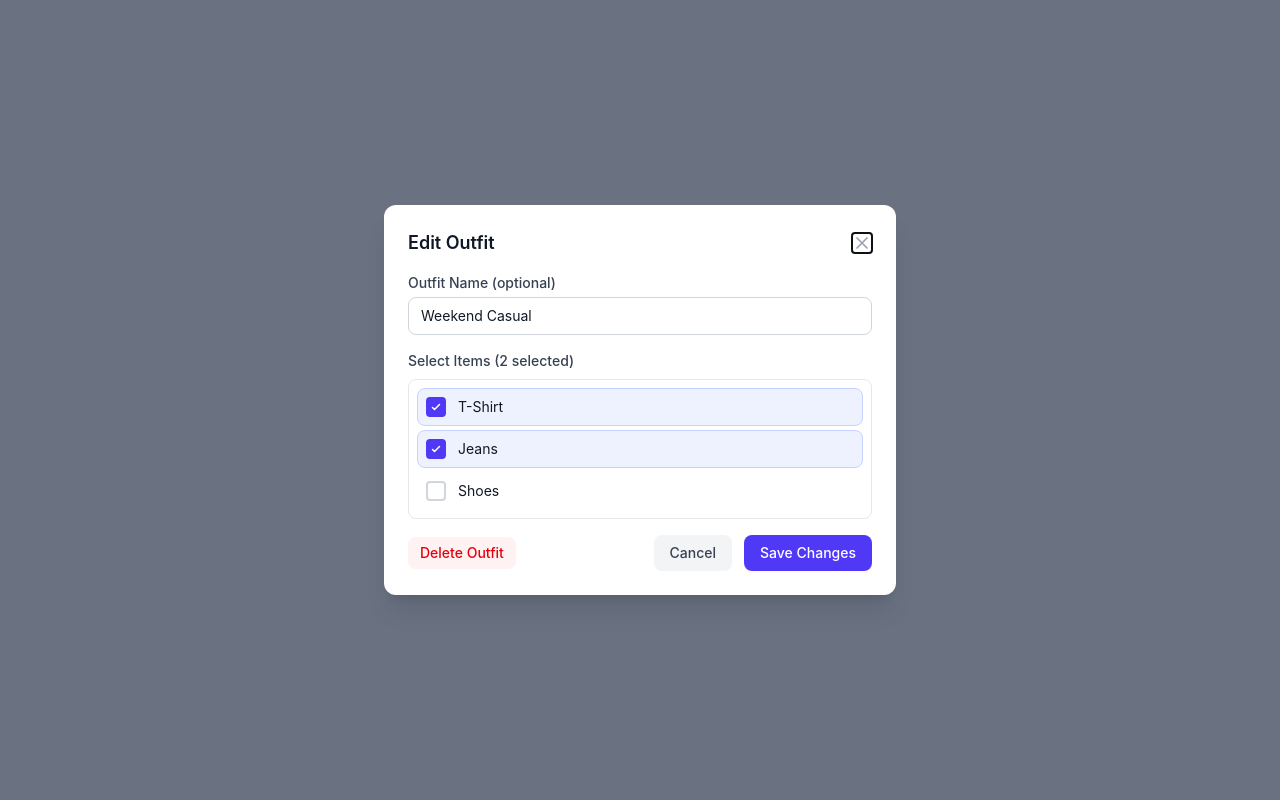
CreateOutfitModal › shows delete confirmation when Delete Outfit is clicked
Click the button "Delete Outfit": click(462, 553) [408, 537, 516, 569]
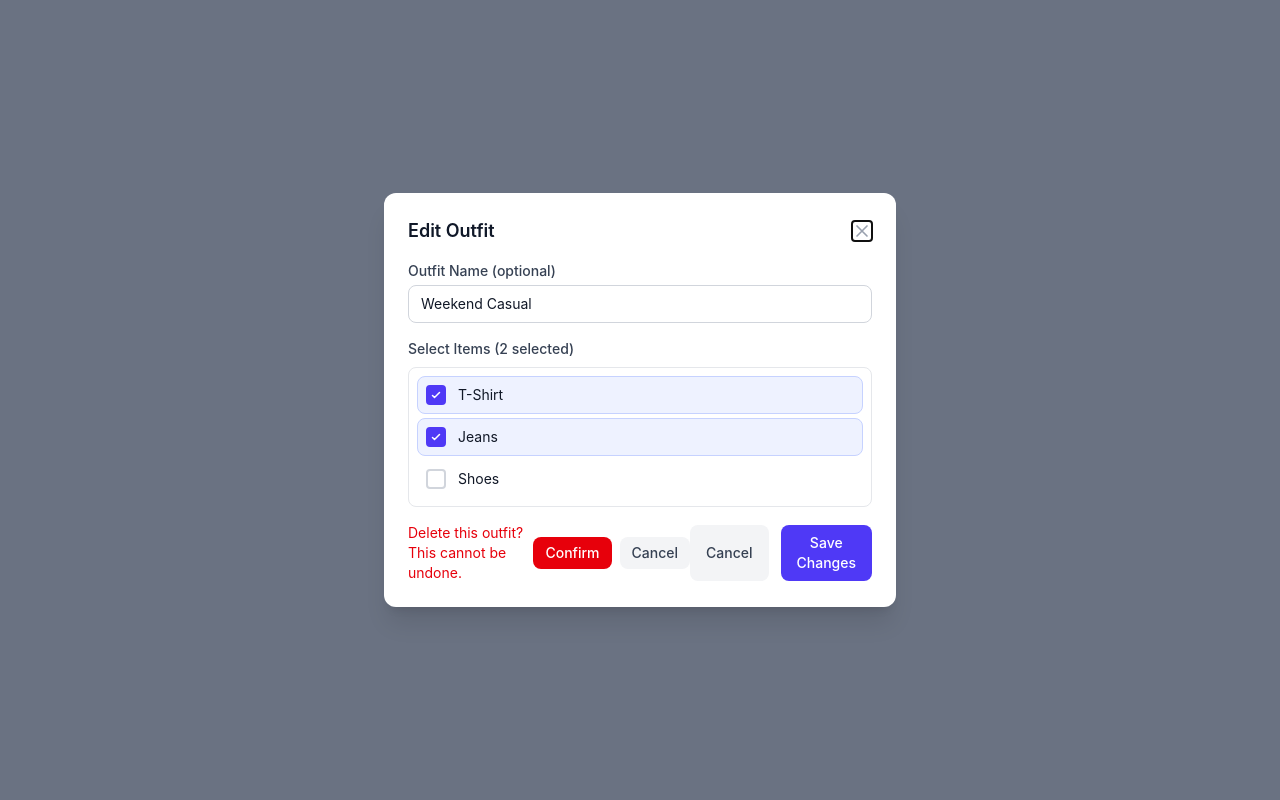
Expected: the text "Delete this outfit? This cannot be undone." is shown, [408, 523, 526, 583]
Expected: the button "Confirm" is shown, [534, 537, 612, 569]
